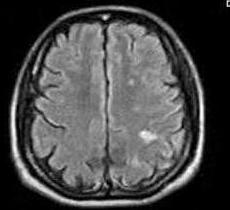Normal_Brain: (12, 2, 230, 210)
